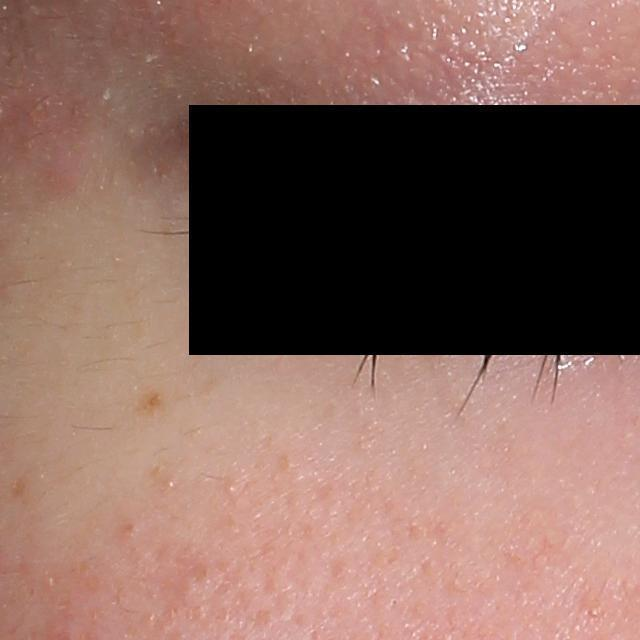comedo: (161, 477, 178, 493), (226, 483, 238, 495)
melasma: (138, 388, 165, 415)
